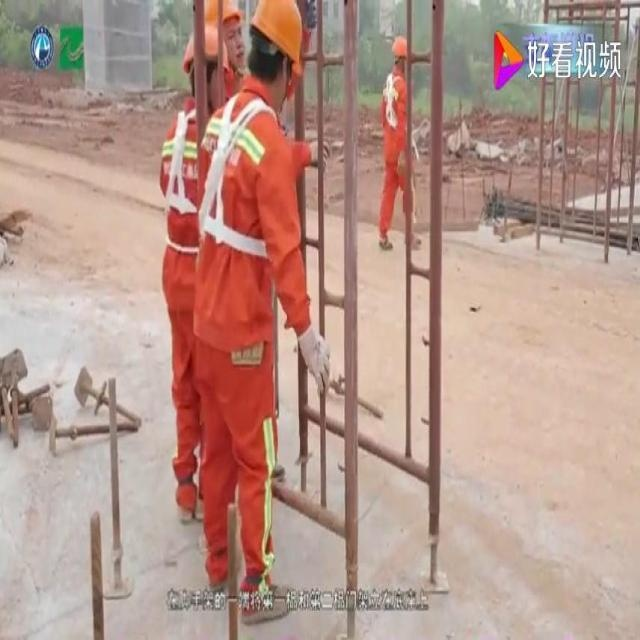Arnes_seguridad: (196, 80, 283, 263), (160, 97, 207, 228), (382, 68, 403, 131)
